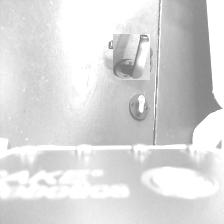Door Handle: (110, 36, 152, 78)
Lock: (130, 92, 149, 122)
